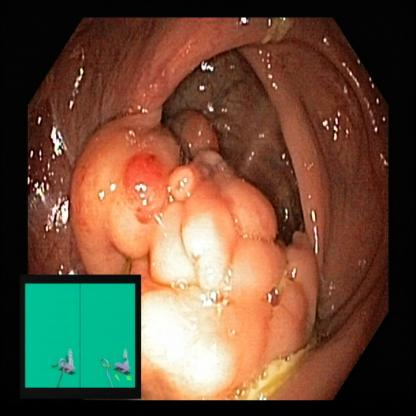Labels: (19, 275, 140, 396)
Polyps: (72, 119, 123, 272), (163, 214, 239, 294), (234, 183, 283, 306), (282, 246, 318, 344), (121, 157, 169, 220), (174, 105, 216, 154), (171, 161, 201, 212)
